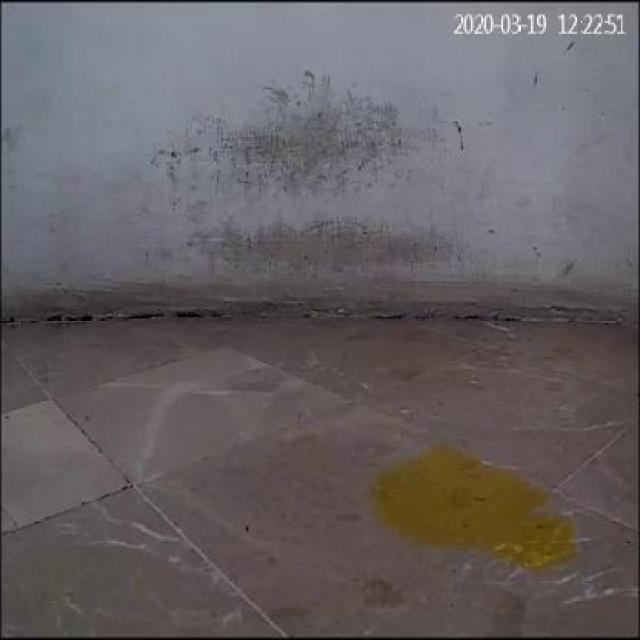spill: (366, 449, 569, 568)
